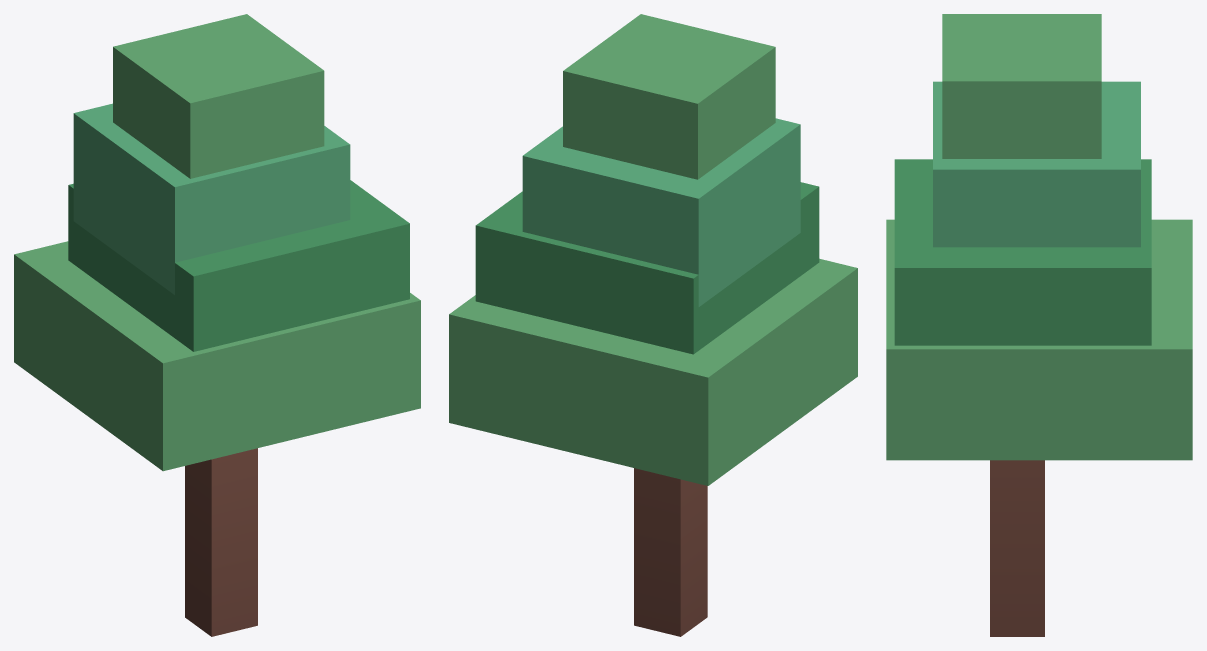
The model's file is paper-nest-oak.glb.
3 renders of one model, left to right at view 1: azimuth 30°, elevation 25°; view 2: azimuth 150°, elevation 25°; view 3: azimuth 270°, elevation 25°, orthographic. The views are drawn at different scales.
Parts seen in each view (by area): view 1: paper-nest-oak_body; view 2: paper-nest-oak_body; view 3: paper-nest-oak_body.
Boxes of the visible parts, <box> form: paper-nest-oak_body: <box>14,14,420,636</box>; paper-nest-oak_body: <box>449,14,857,636</box>; paper-nest-oak_body: <box>886,14,1192,636</box>.
Size of the model in its own units: 5.5 by 11.44 by 5.5.
